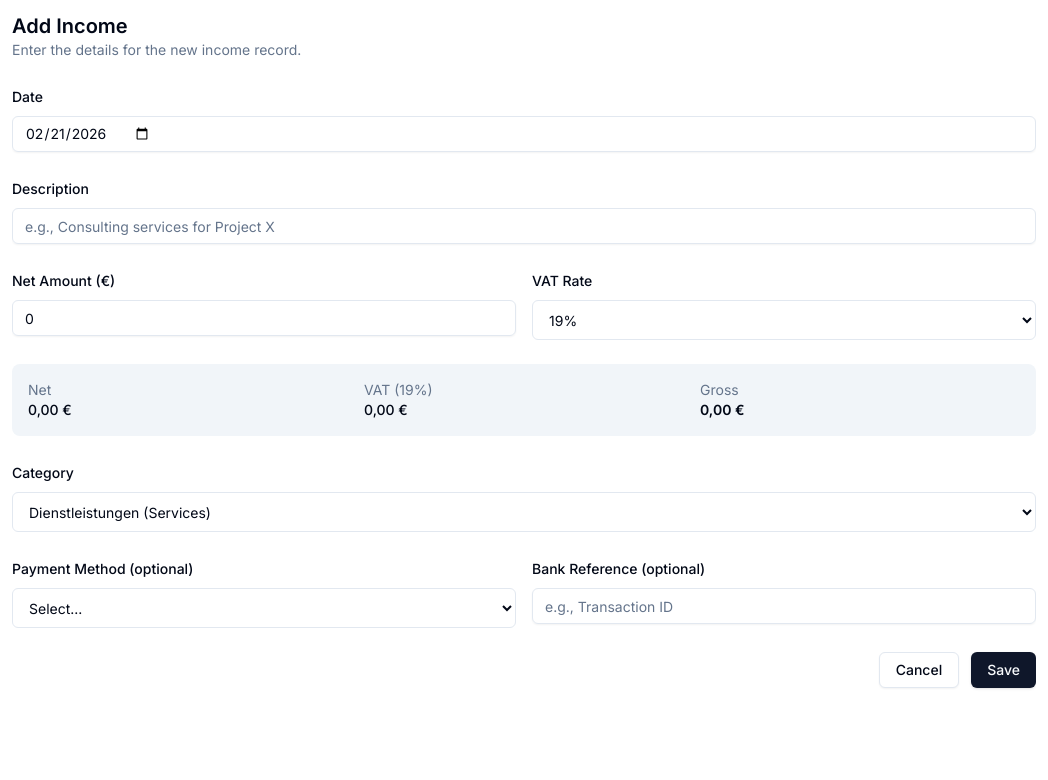
Test: IncomeForm › validation › shows error for missing date
Clear the date field labelled "Date" at (524, 134), box top-left (12, 116), bottom-right (1036, 152)
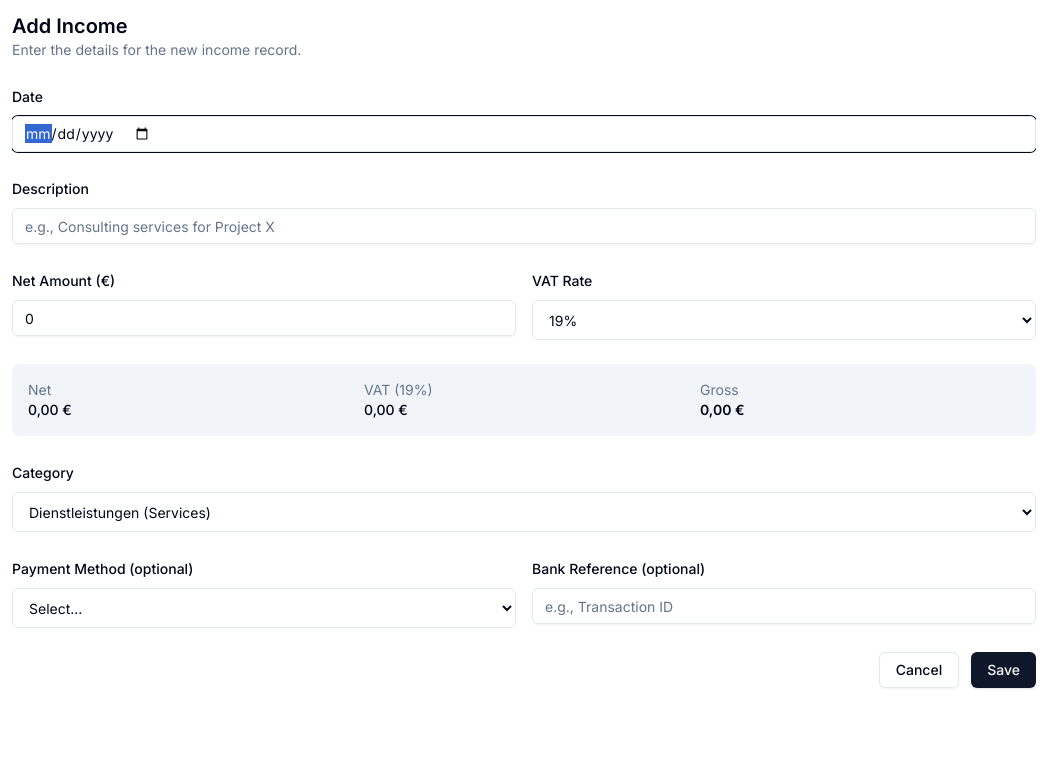
Click the button "Save".
click(1004, 670)  # box top-left (971, 652), bottom-right (1036, 688)
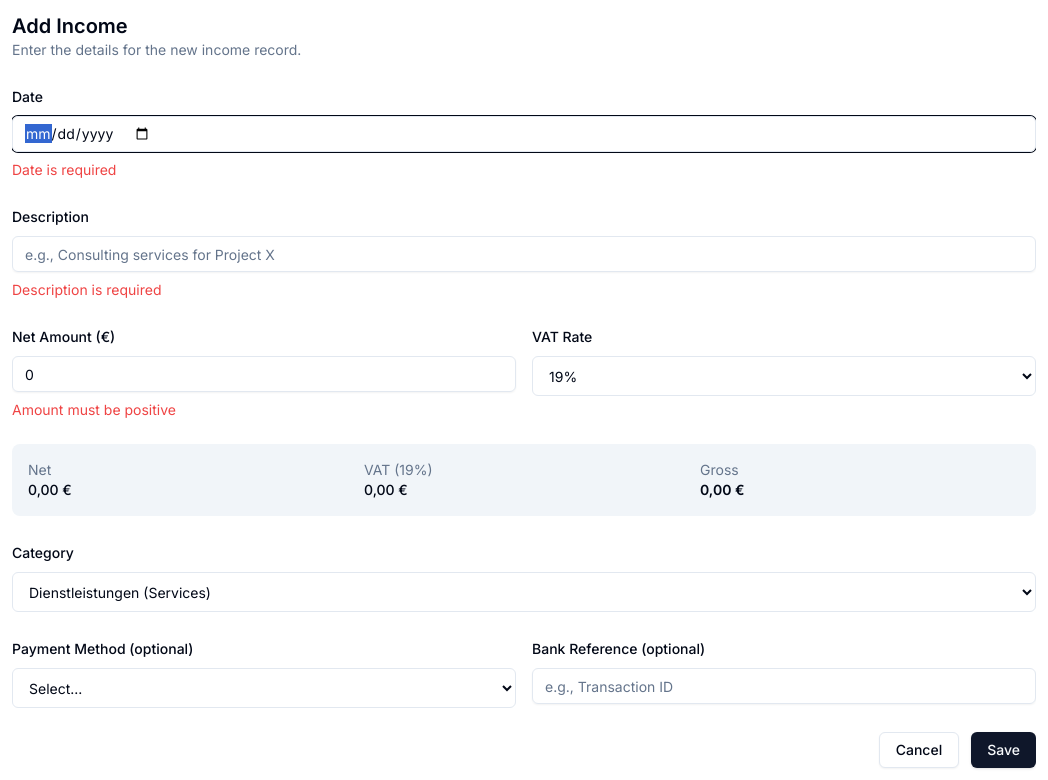
expect the text "Date is required" is shown: met, box top-left (12, 161), bottom-right (116, 178)
